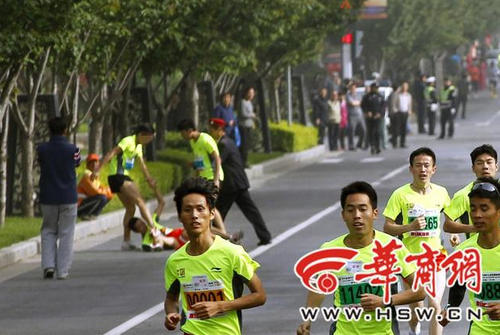10+: (31, 65, 499, 333)
down: (126, 214, 250, 256)
